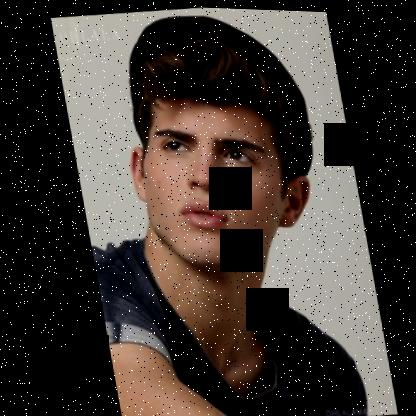Male: (114, 80, 319, 270)
